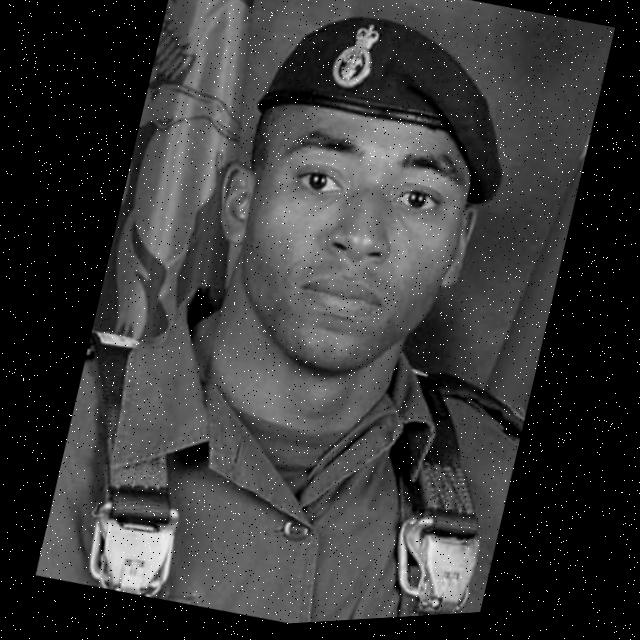face: (182, 69, 491, 418)
